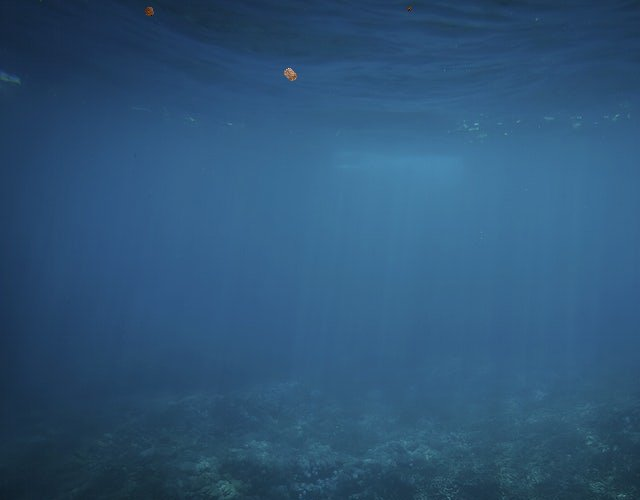Pellet: (276, 60, 304, 88)
